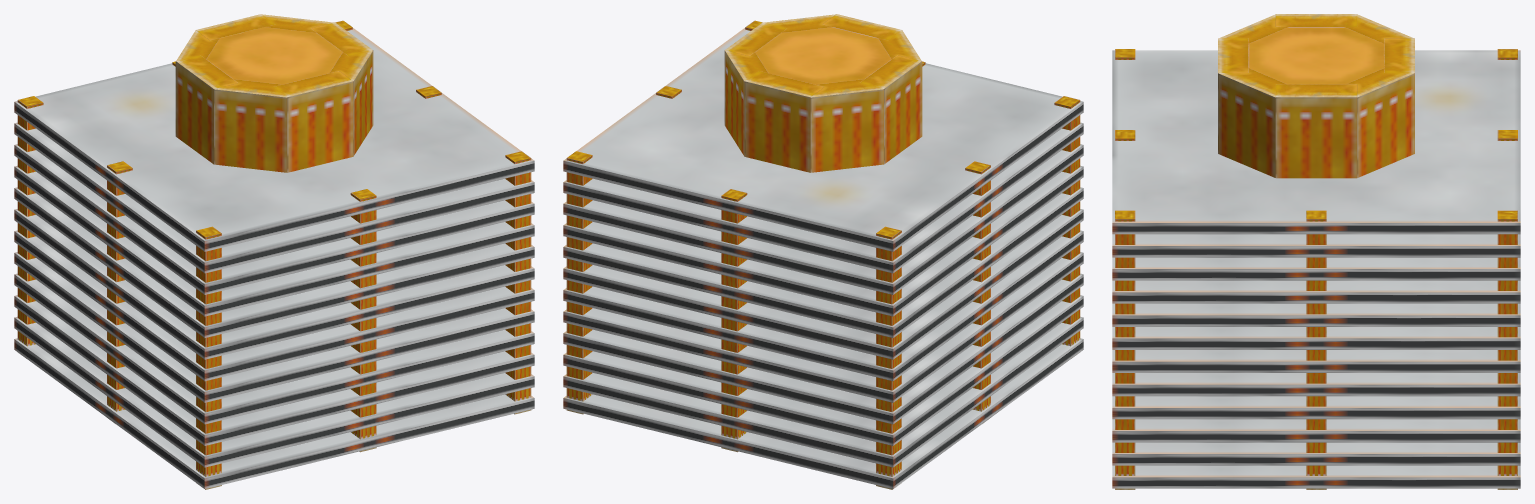
The model's file is cold_side.obj.
3 renders of one model, left to right at view 1: azimuth 30°, elevation 25°; view 2: azimuth 150°, elevation 25°; view 3: azimuth 270°, elevation 25°, orthographic. The views are drawn at different scales.
Visible parts, largest first — view 1: fin11, fin8, fin6, fin1, fin4, fin3, fin7, fin10, fin2, fin5, fin9, fin0 (+13 smaller); view 2: fin11, fin8, fin6, fin1, fin4, fin3, fin7, fin10, fin2, fin5, fin9, fin0 (+13 smaller); view 3: fin11, fin3, fin4, fin2, fin10, fin0, fin1, fin7, fin8, fin9, fin5, fin6 (+12 smaller).
Part boxes in pixels (bbox=[...]): fin11: bbox=[14, 28, 534, 251]; fin8: bbox=[14, 165, 534, 316]; fin6: bbox=[14, 209, 534, 359]; fin1: bbox=[14, 316, 534, 467]; fin4: bbox=[14, 252, 534, 402]; fin3: bbox=[14, 273, 534, 424]; fin7: bbox=[14, 187, 534, 337]; fin10: bbox=[14, 122, 534, 273]; fin2: bbox=[14, 295, 534, 445]; fin5: bbox=[14, 230, 534, 381]; fin9: bbox=[14, 144, 534, 294]; fin0: bbox=[14, 338, 534, 488]; fin11: bbox=[563, 28, 1083, 251]; fin8: bbox=[563, 165, 1083, 316]; fin6: bbox=[563, 209, 1083, 359]; fin1: bbox=[563, 316, 1083, 467]; fin4: bbox=[563, 252, 1083, 402]; fin3: bbox=[563, 273, 1083, 424]; fin7: bbox=[563, 187, 1083, 337]; fin10: bbox=[563, 122, 1083, 273]; fin2: bbox=[563, 295, 1083, 445]; fin5: bbox=[563, 230, 1083, 381]; fin9: bbox=[563, 144, 1083, 294]; fin0: bbox=[563, 338, 1083, 488]; fin11: bbox=[1112, 50, 1520, 234]; fin3: bbox=[1112, 396, 1520, 419]; fin4: bbox=[1112, 373, 1520, 396]; fin2: bbox=[1112, 419, 1520, 442]; fin10: bbox=[1112, 234, 1520, 257]; fin0: bbox=[1112, 465, 1520, 488]; fin1: bbox=[1112, 442, 1520, 465]; fin7: bbox=[1112, 303, 1520, 326]; fin8: bbox=[1112, 280, 1520, 303]; fin9: bbox=[1112, 257, 1520, 280]; fin5: bbox=[1112, 350, 1520, 372]; fin6: bbox=[1112, 327, 1520, 349].
Size of the model in its own units: 0.25 by 0.25 by 0.25.
